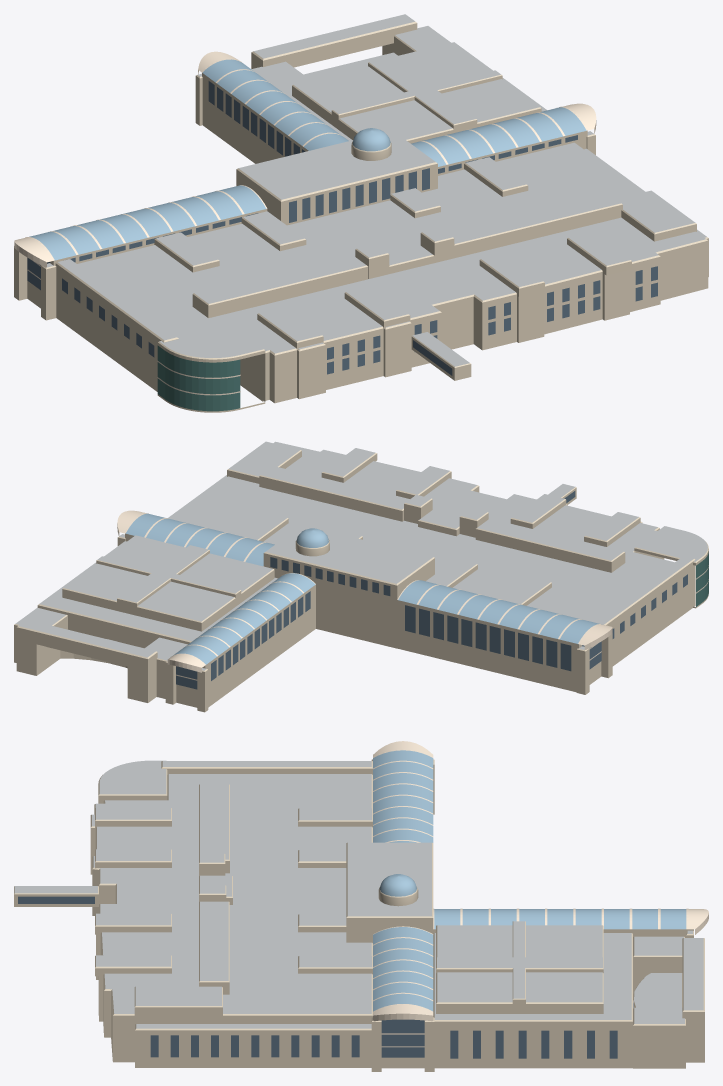
The model's file is clt-convention-center.glb.
3 views of the same model, one above another, from view 1: azimuth 30°, elevation 25°; view 2: azimuth 150°, elevation 25°; view 3: azimuth 270°, elevation 25° (orthographic). The views are drawn at different scales.
Parts seen in each view (by area): view 1: Charlotte Convention Center; view 2: Charlotte Convention Center; view 3: Charlotte Convention Center.
Boxes of the visible parts, x1,y1,x2,y2 form: Charlotte Convention Center: [14, 14, 708, 412]; Charlotte Convention Center: [14, 441, 708, 712]; Charlotte Convention Center: [14, 741, 708, 1071].
Bounding box in the file's own units: 241 × 39.2 × 259.
